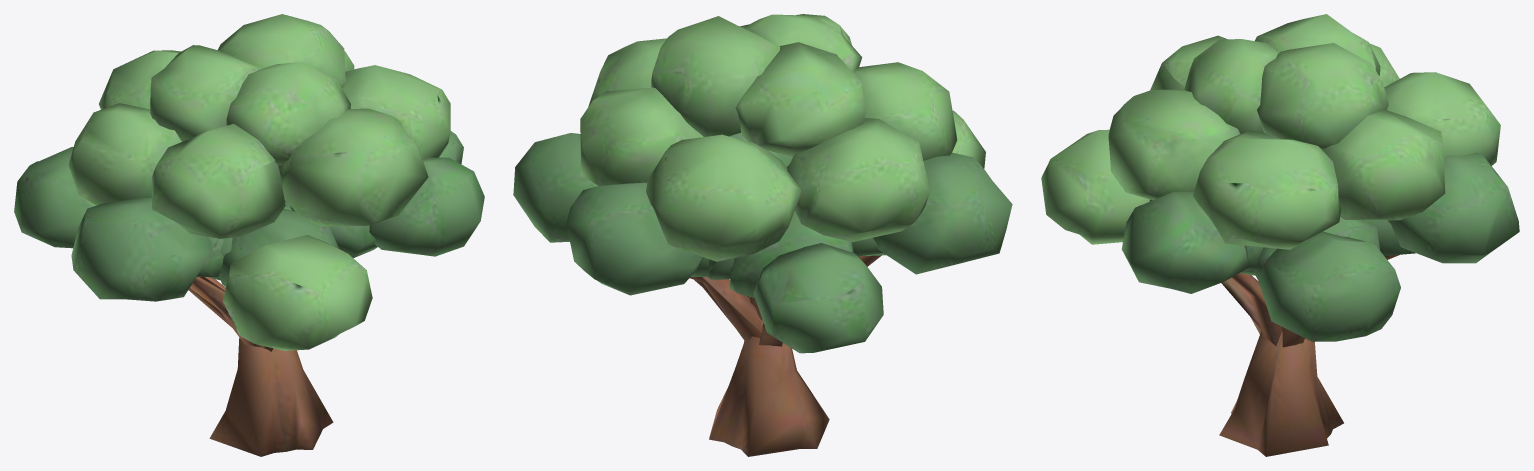
Rendered from oak-tree.glb.
3 views of the same model, side by side, from view 1: azimuth 30°, elevation 25°; view 2: azimuth 150°, elevation 25°; view 3: azimuth 270°, elevation 25° (orthographic). The views are drawn at different scales.
Visible parts, largest first — view 1: oak-tree_body; view 2: oak-tree_body; view 3: oak-tree_body.
Part boxes in pixels (x1,y1,x2,y2): oak-tree_body: [14, 14, 484, 456]; oak-tree_body: [513, 14, 1012, 456]; oak-tree_body: [1041, 14, 1519, 456].
Size of the model in its own units: 7.59 by 6.76 by 7.51.
Materials: 1 (1 with a texture image).
